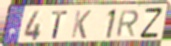1: (105, 8, 118, 40)
4: (23, 10, 42, 42)
K: (70, 9, 93, 40)
R: (114, 9, 140, 38)
T: (50, 10, 69, 41)
Z: (139, 7, 164, 40)
